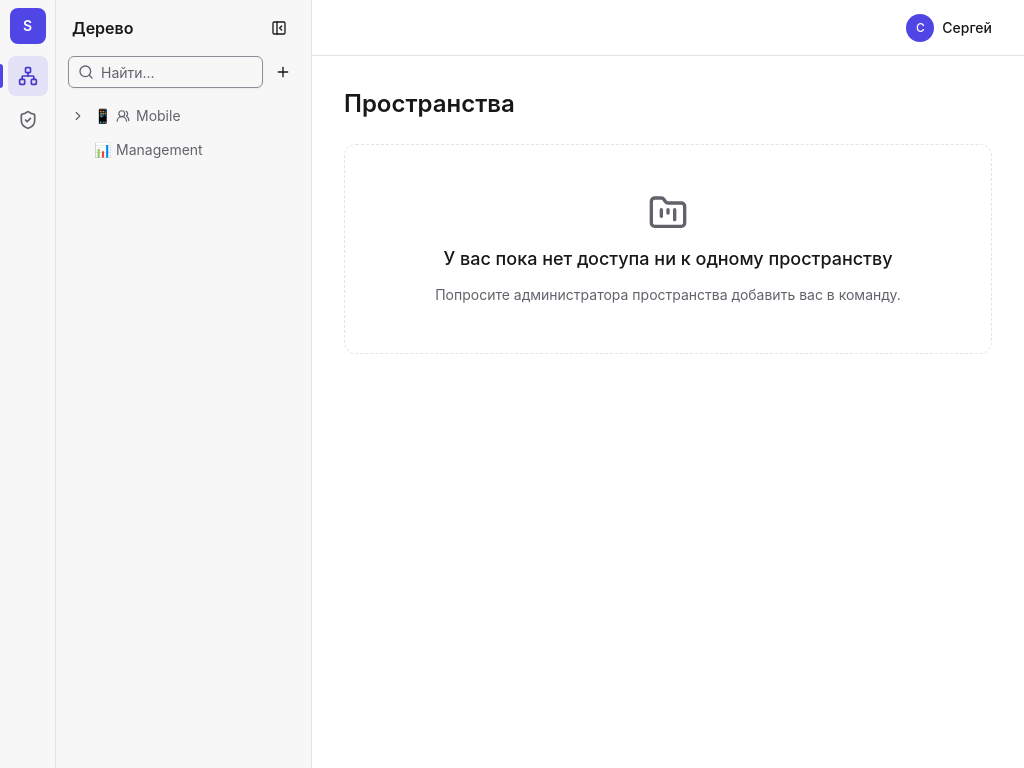
it: Панель «Дерево» › системный администратор создаёт папку из «+» в корне дерева
This screenshot has width=1024, height=768.
Click the button named "Добавить в дерево" at (283, 72), box top-left (267, 56), bottom-right (299, 88)
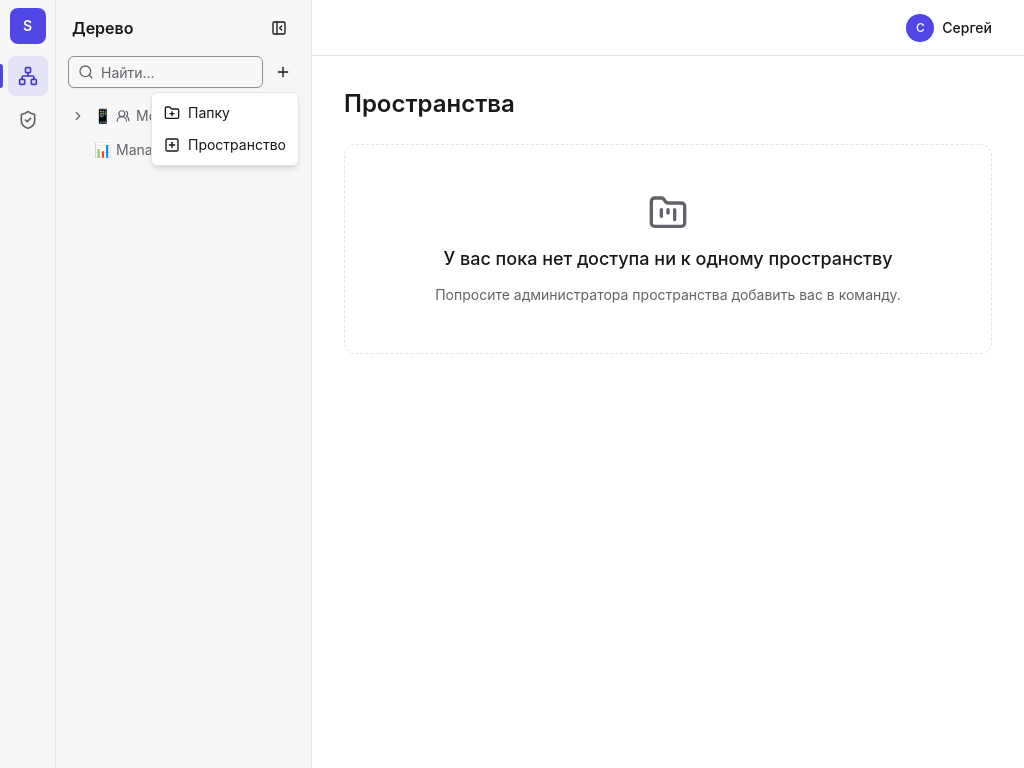
Click the menu item "Папку" at (197, 112), box top-left (164, 104), bottom-right (230, 121)
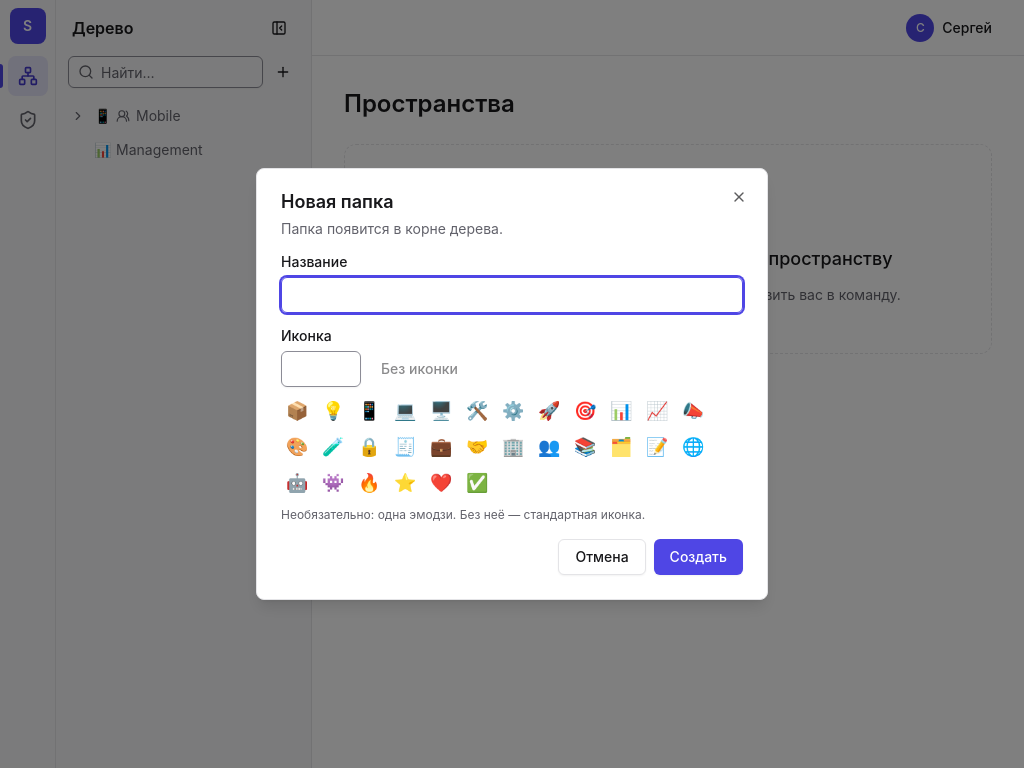
expect the text "Папка появится в корне дерева." is shown: met, box top-left (281, 220), bottom-right (503, 237)
Type "Web" into the field labelled "Название" at (512, 295), box top-left (281, 277), bottom-right (743, 313)
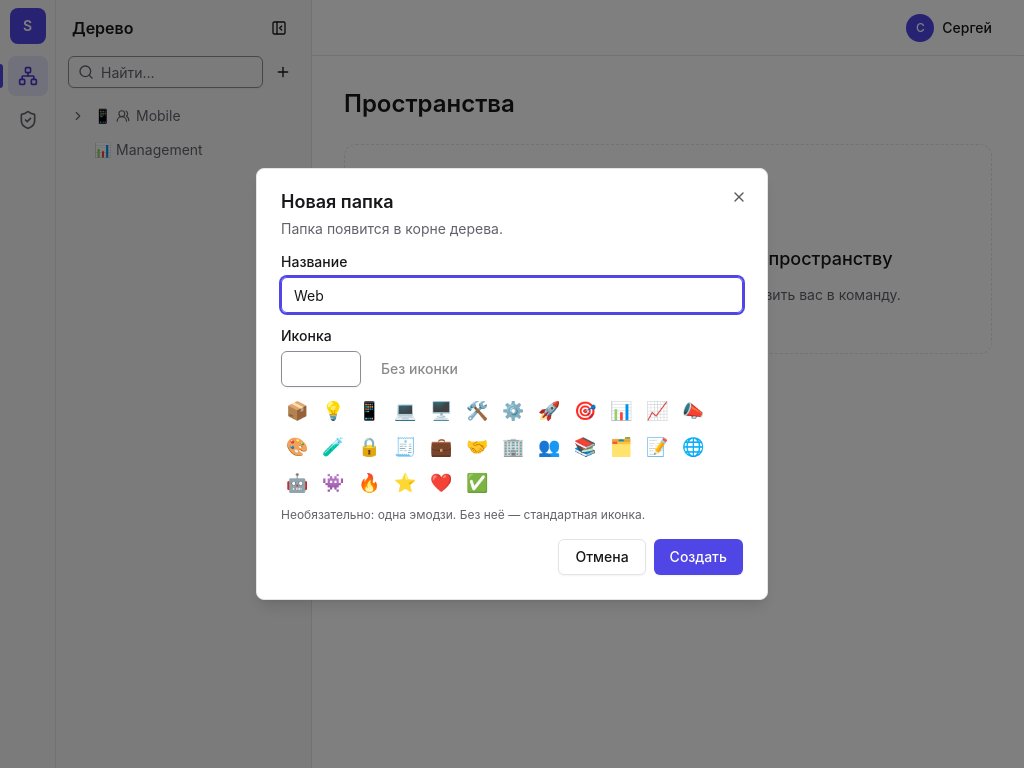
Click the button "🌐" at (693, 447), box top-left (677, 431), bottom-right (709, 463)
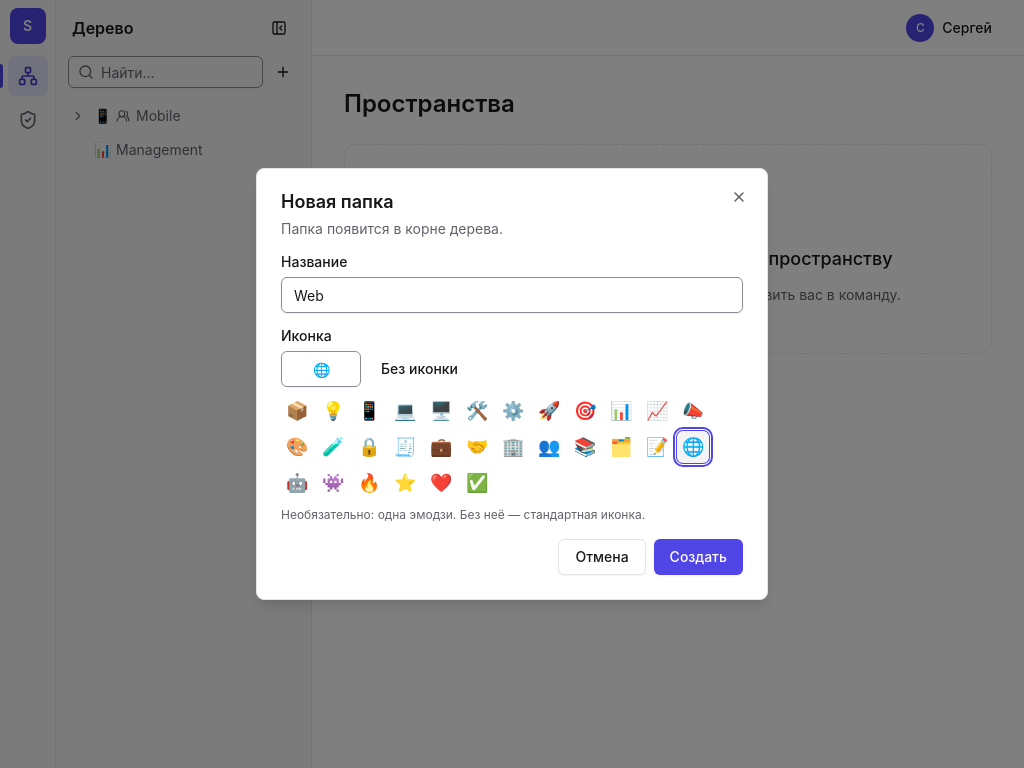
Click the button "Создать" at (698, 557), box top-left (654, 539), bottom-right (743, 575)
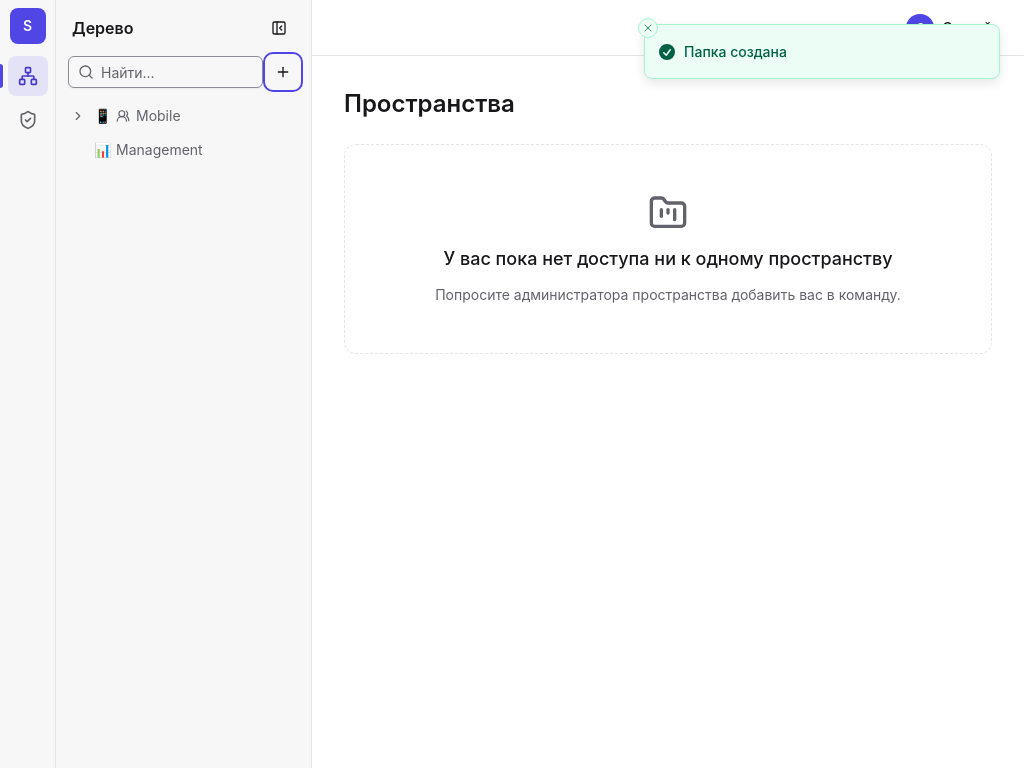
expect the text "Папка создана" is shown: met, box top-left (684, 41), bottom-right (787, 62)
expect the heading "Новая папка" is gone: met
